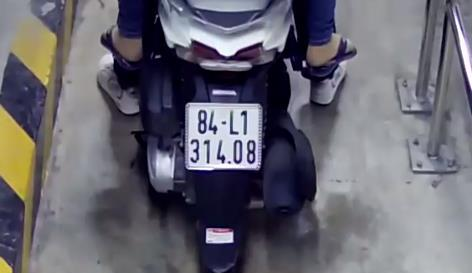lisence: (185, 102, 263, 170)
